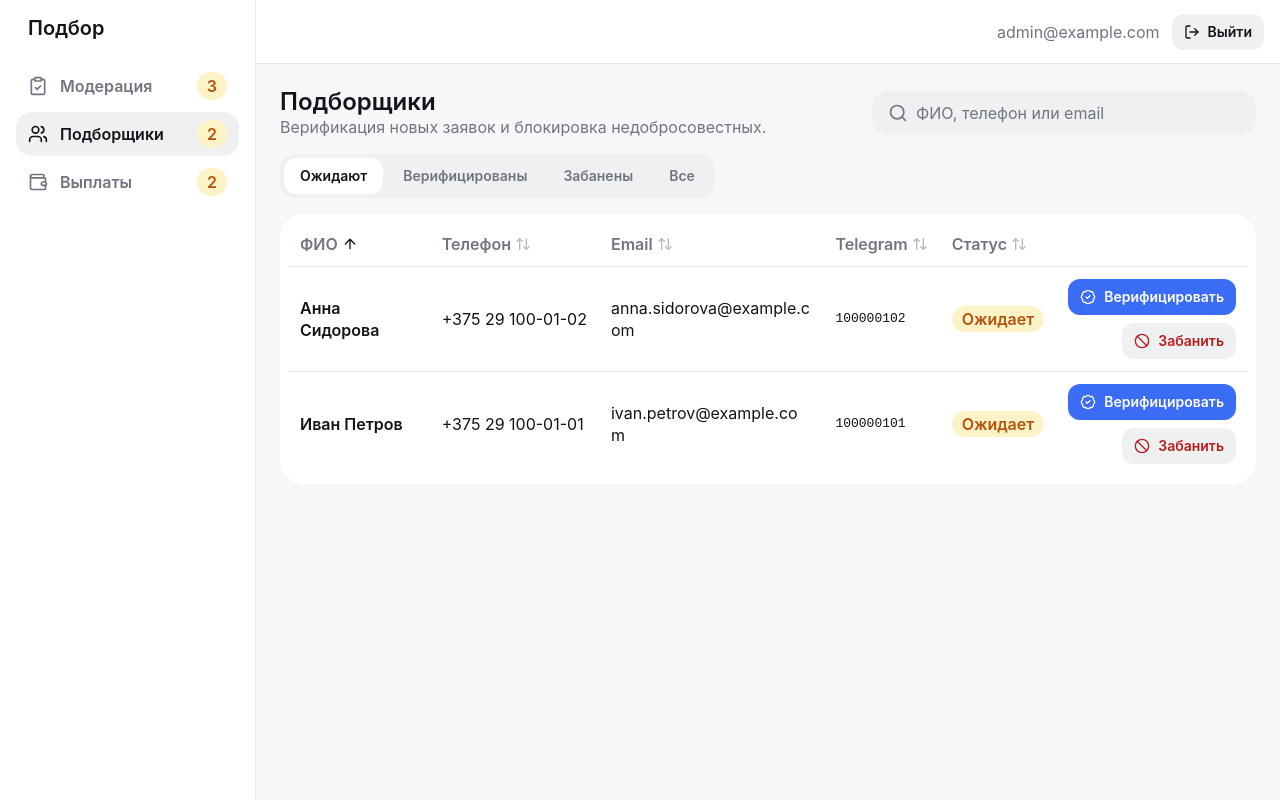
Test: верификация › «Отмена» — без запроса
Click the button "Верифицировать" in the row of "Иван Петров" at (1152, 402), box x1=1068 y1=384 x2=1236 y2=420
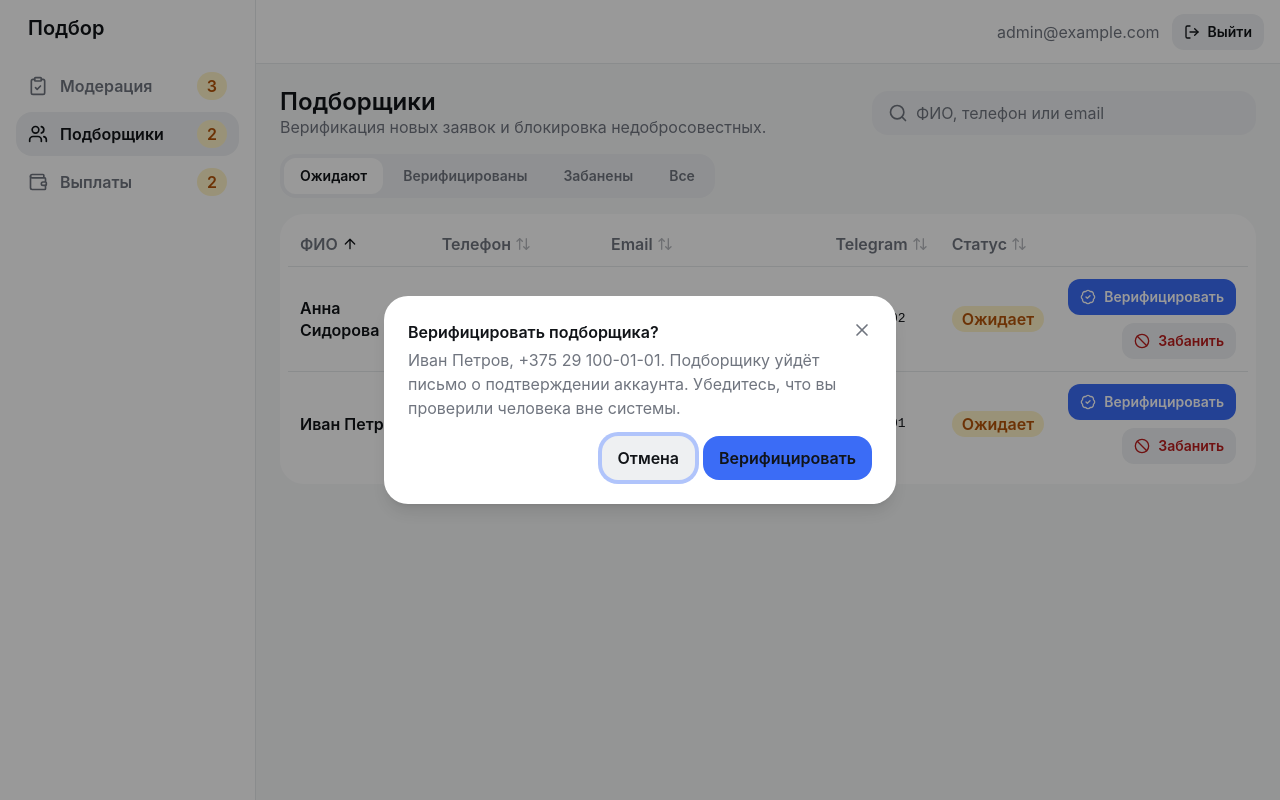
Click the button "Отмена" at (648, 458), box x1=602 y1=436 x2=695 y2=480
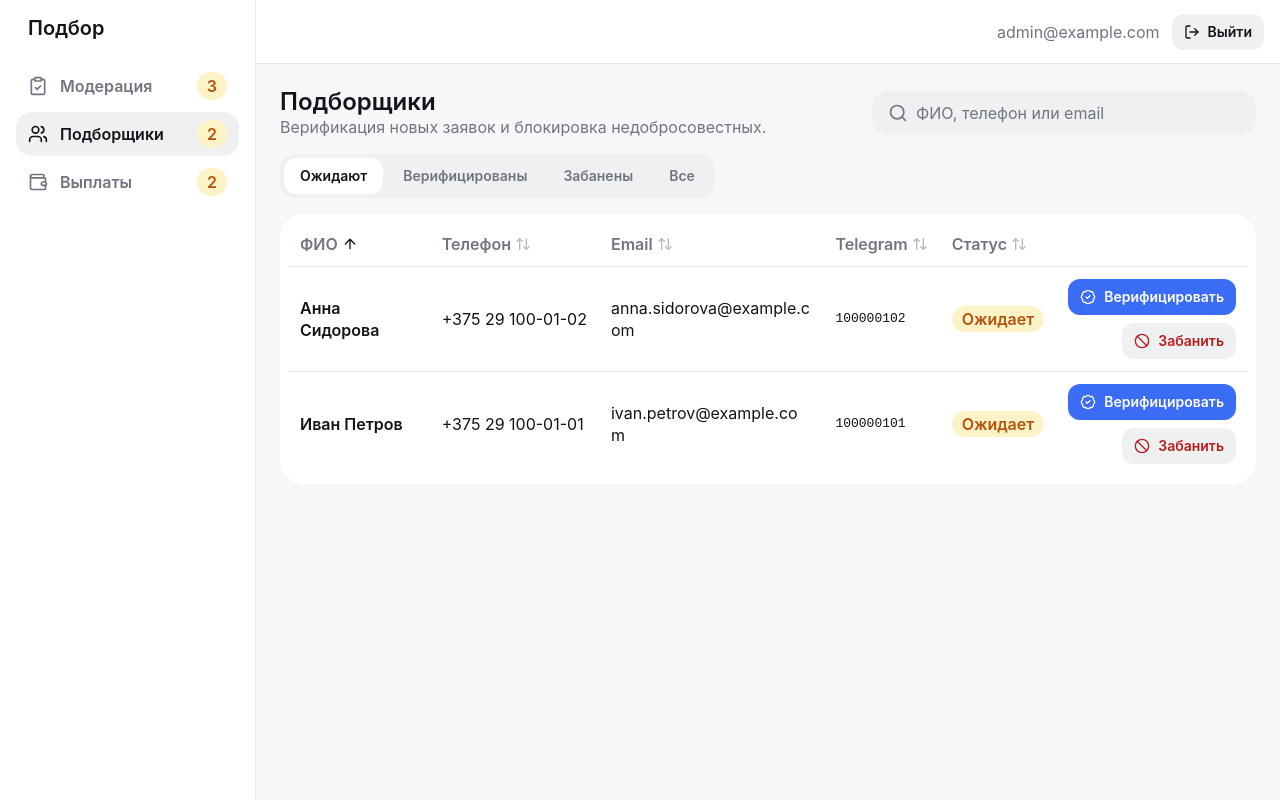
expect the dialog is gone: met
